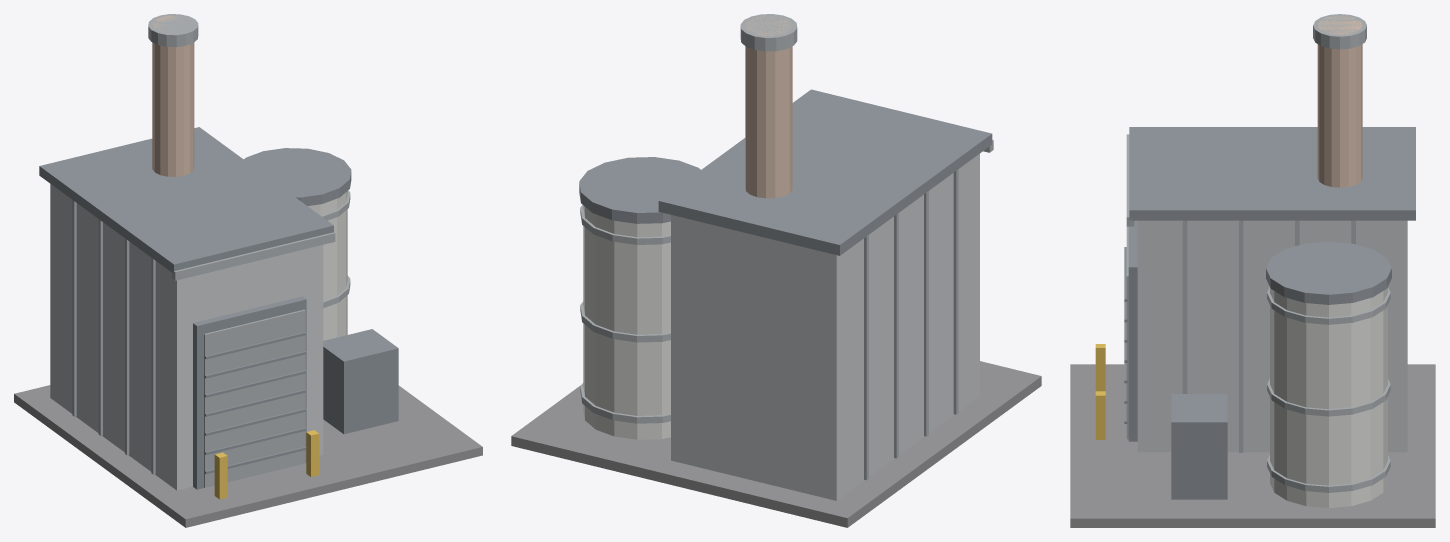
File: industrial_1x1_c.glb
The picture shows the model from 3 angles, left to right: view 1: azimuth 30°, elevation 25°; view 2: azimuth 150°, elevation 25°; view 3: azimuth 270°, elevation 25°; orthographic projection. The views are drawn at different scales.
Visible parts, largest first — view 1: industrial_1x1_c_yard; view 2: industrial_1x1_c_yard; view 3: industrial_1x1_c_yard.
Part boxes in pixels (x1,y1,x2,y2): industrial_1x1_c_yard: [14, 14, 482, 527]; industrial_1x1_c_yard: [511, 14, 1041, 527]; industrial_1x1_c_yard: [1070, 14, 1435, 527].
Size of the model in its own units: 6.5 by 8 by 6.5.
